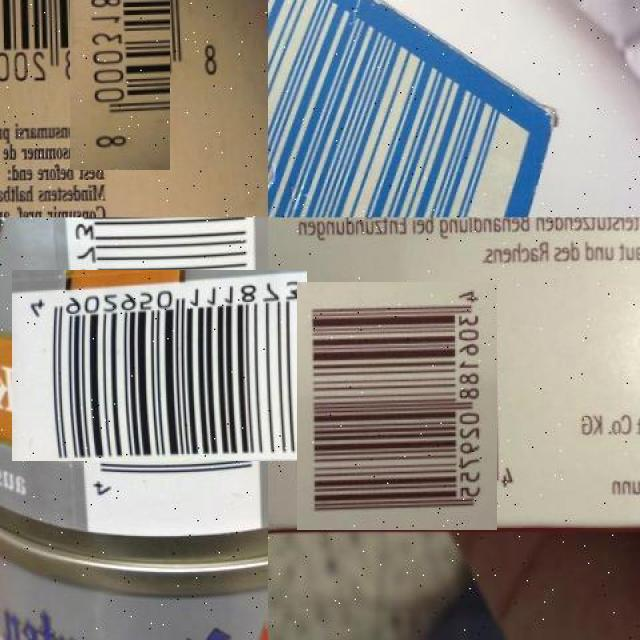Barcode: (38, 244, 281, 487), (268, 0, 530, 217), (285, 293, 510, 518), (34, 0, 205, 135)
